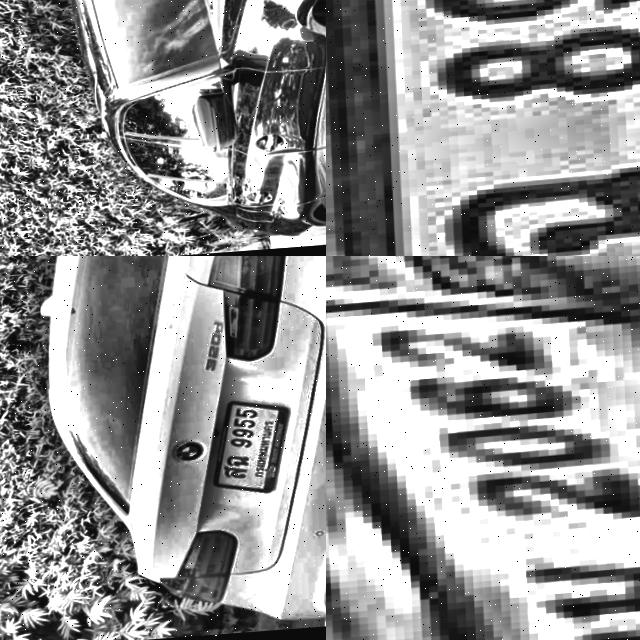license-plate: (326, 256, 640, 640), (333, 0, 640, 256), (203, 400, 288, 504)
